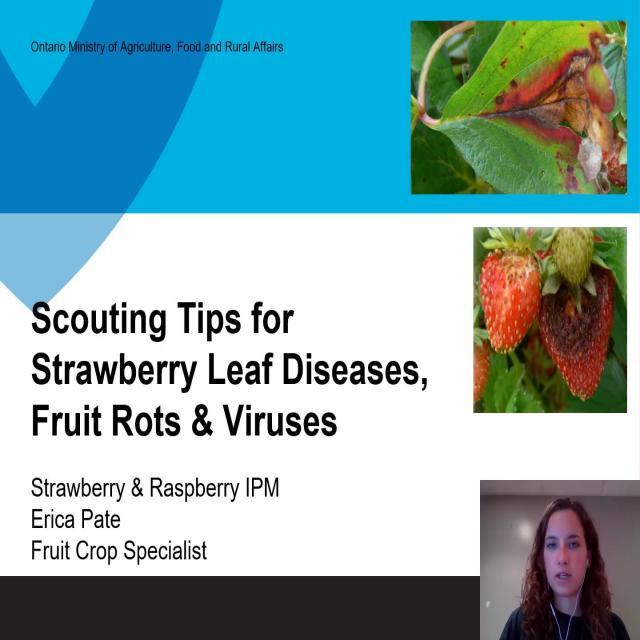Mancha negra Antracnosis: (544, 264, 616, 402), (477, 248, 541, 355)
